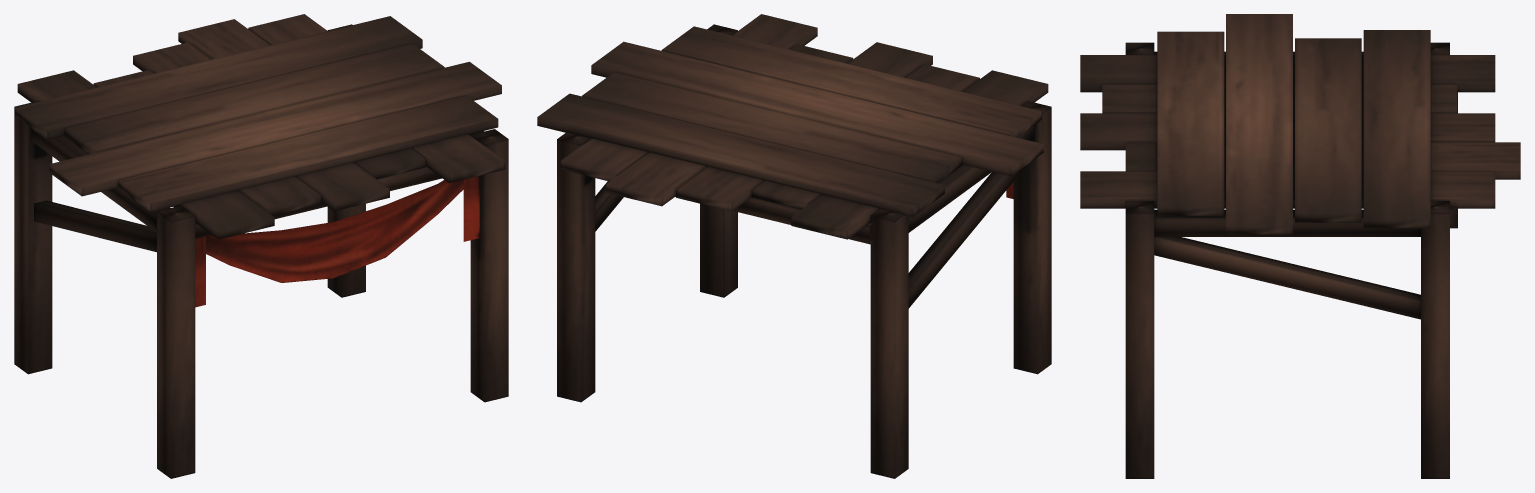
Rendered from tent warrior.fbx.
3 renders of one model, left to right at view 1: azimuth 30°, elevation 25°; view 2: azimuth 150°, elevation 25°; view 3: azimuth 270°, elevation 25°, orthographic. The views are drawn at different scales.
Visible parts, largest first — view 1: Shop_frame; view 2: Shop_frame; view 3: Shop_frame.
Boxes of the visible parts, x1=… form: Shop_frame: x1=14, y1=14, x2=508, y2=478; Shop_frame: x1=537, y1=14, x2=1051, y2=478; Shop_frame: x1=1080, y1=14, x2=1520, y2=478.
Size of the model in its own units: 5.1 by 3.08 by 4.48.
